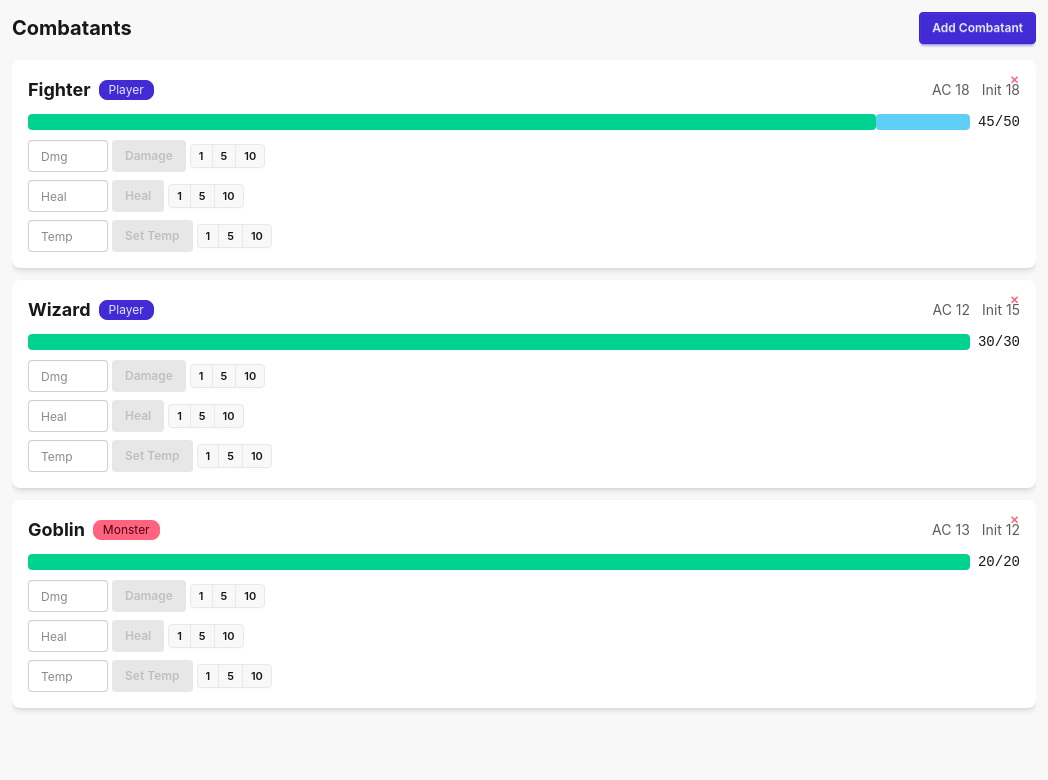
Scenario: EncounterHpPanel › error handling › shows fallback error when remove fails with no message
Click the button with test id "remove-combatant-c1" at [1014, 520], box [1001, 508, 1028, 532]
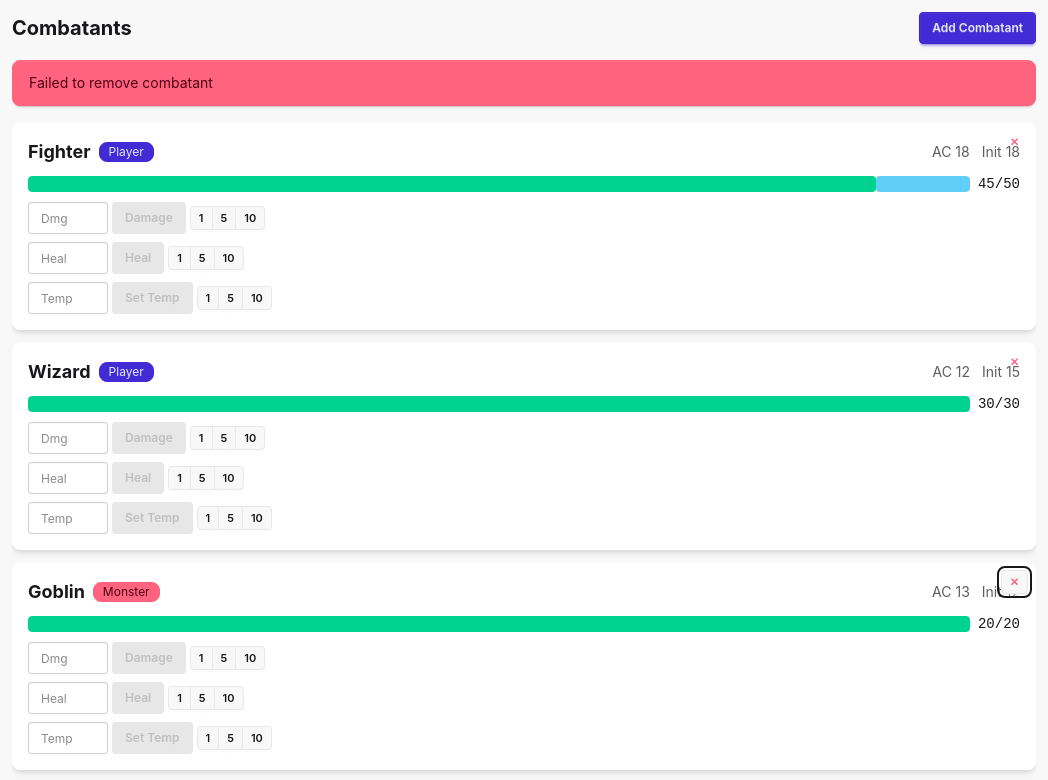
Check: the element with test id "encounter-hp-panel-error" reads "Failed to remove combatant", box [29, 74, 213, 91]
